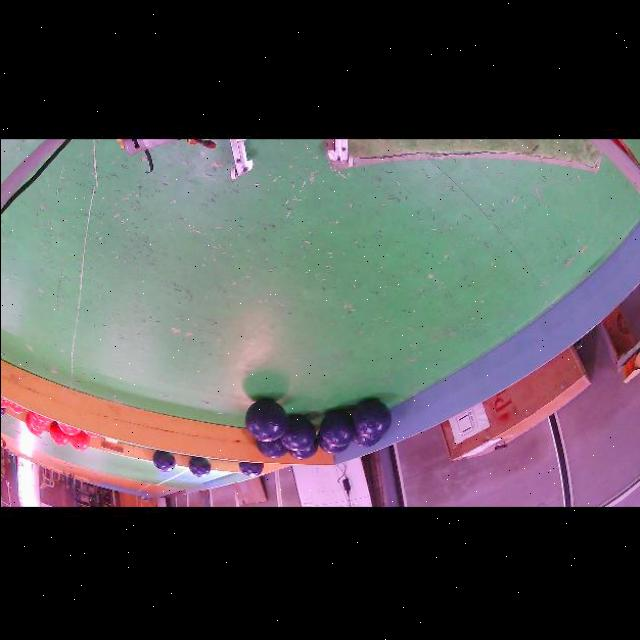B: (244, 397, 287, 441), (352, 398, 391, 438), (279, 414, 315, 450), (319, 410, 353, 446), (316, 431, 348, 453), (287, 437, 318, 459), (255, 438, 287, 457), (187, 455, 210, 476), (152, 450, 175, 471), (352, 430, 380, 446), (237, 461, 263, 476)
P: (0, 406, 5, 415)
R: (48, 421, 68, 444), (24, 413, 43, 436), (68, 430, 89, 450), (57, 421, 80, 434), (29, 414, 48, 429), (8, 401, 25, 413), (34, 413, 52, 423), (0, 396, 10, 407)
